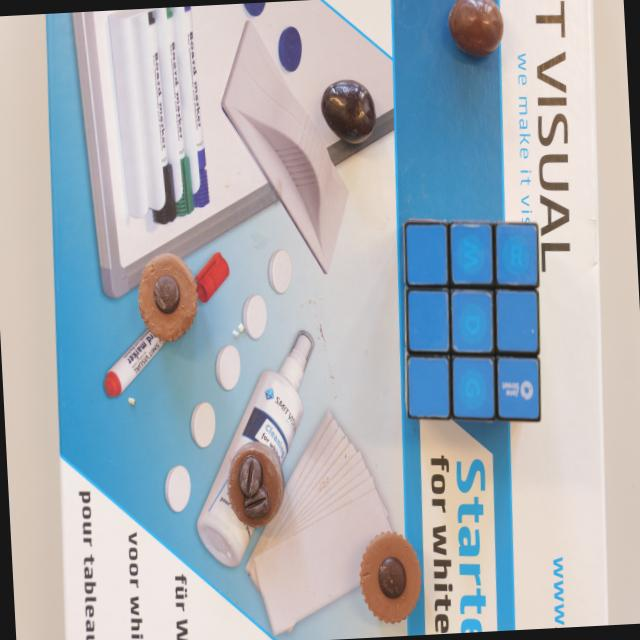Arabia: (226, 440, 284, 528)
Jelly_Black: (319, 80, 377, 142)
Jelly_Milk: (446, 0, 504, 57)
Noblesse: (358, 530, 424, 624), (136, 250, 199, 342)
